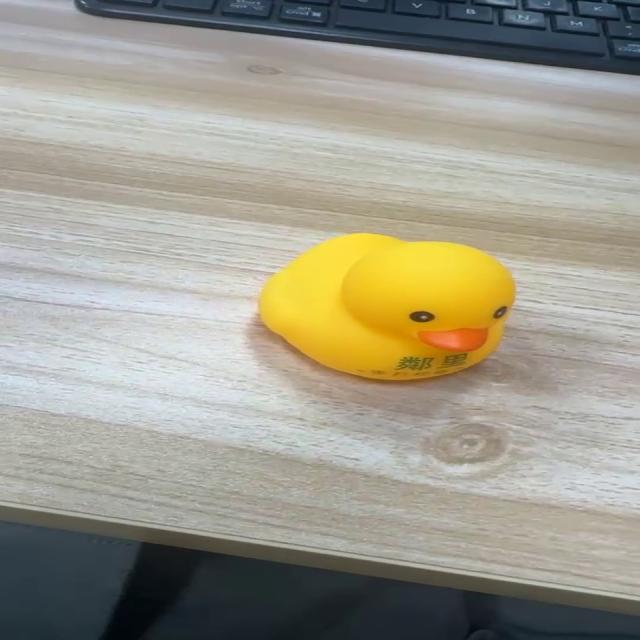yellow_duck: (256, 231, 517, 381)
